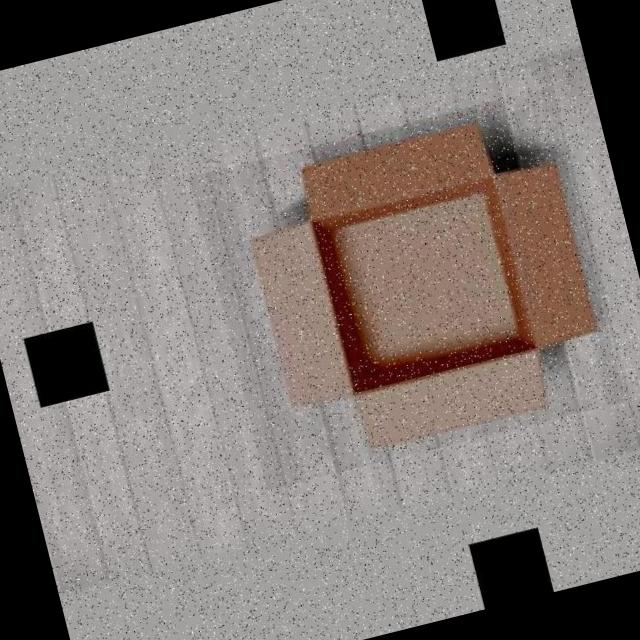box: (189, 87, 626, 490)
